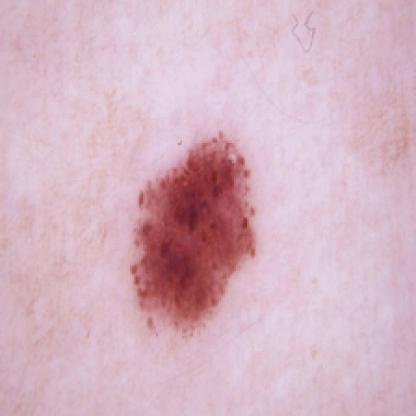benign: (134, 143, 254, 327)
